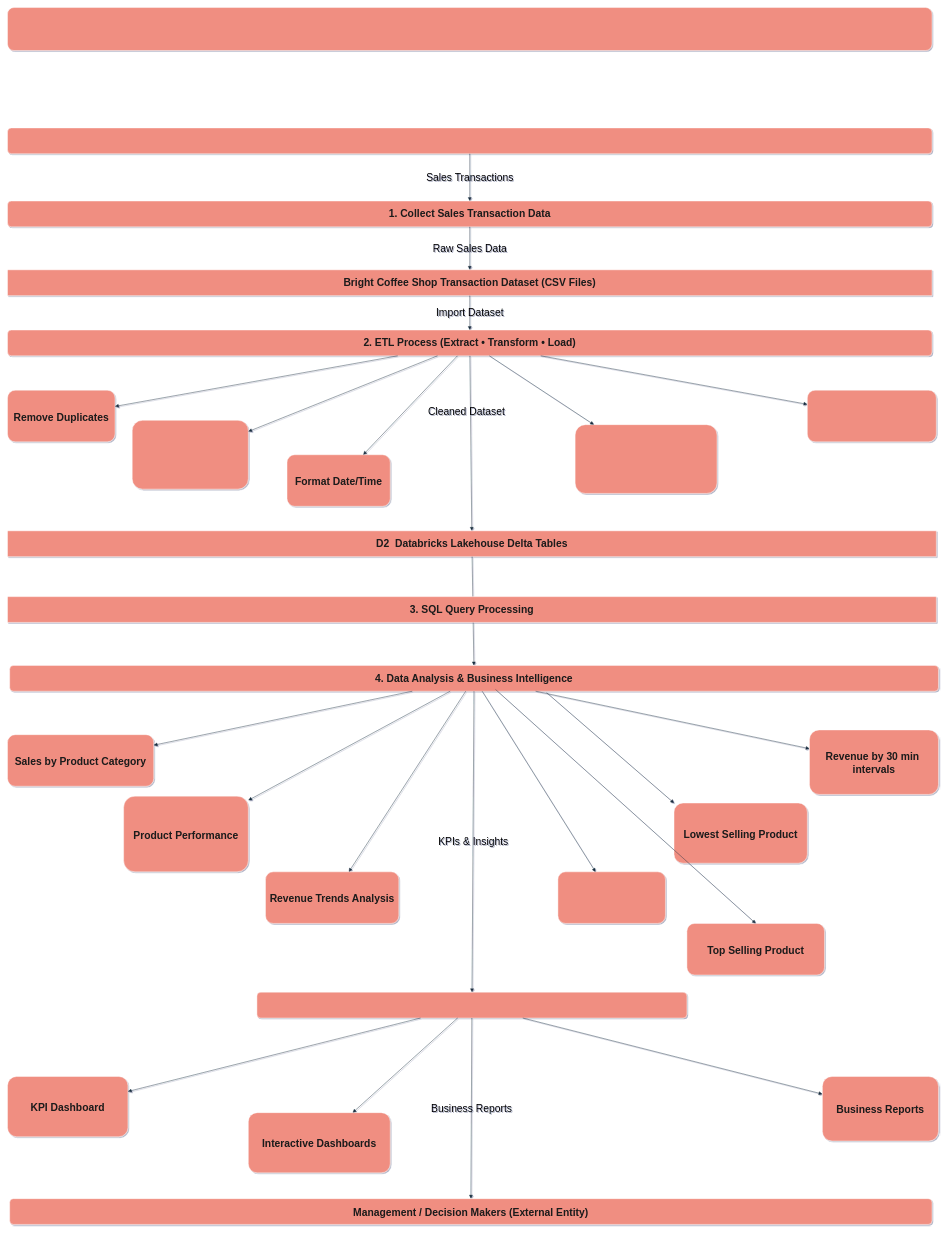
The diagram is 949 pixels wide and 1235 high, and some of its shapes have lost their labels. Here are the shapes that lost their labels. From the top down, the centre of each, then its label:
At point (469, 29): "BRIGHT COFFEE SHOP ANALYSIS DIAGRAM PLANNING".
At point (469, 140): "Coffee Shop Staff (External Entity)".
At point (871, 416): "Create Calculated Columns (Revenue)".
At point (190, 454): "Clean Missing Values".
At point (646, 458): "Validate Prices & Quantity".
At point (611, 897): "Store Performance".
At point (471, 1005): "5. Reporting & Dashboard Generation".
